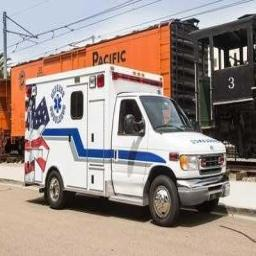Ambulance: (25, 64, 228, 225)
